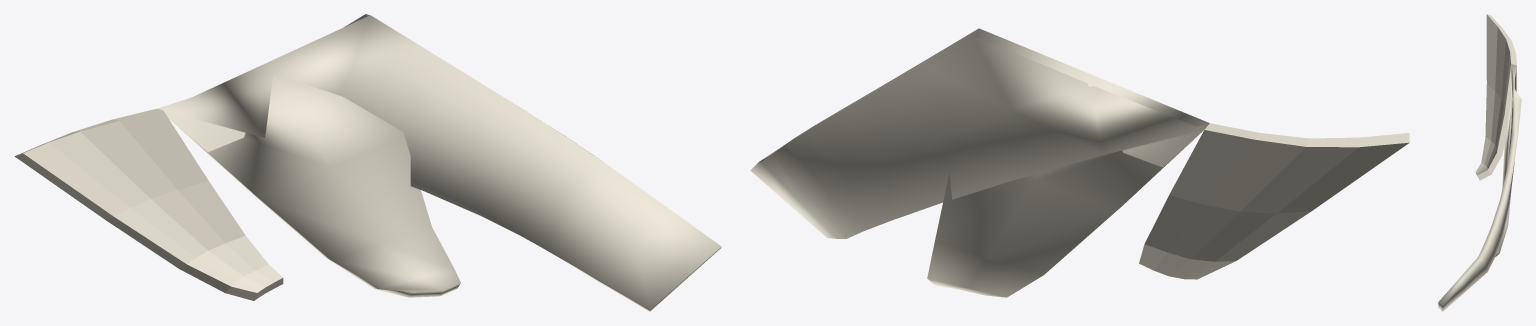
3 renders of one model, left to right at view 1: azimuth 30°, elevation 25°; view 2: azimuth 150°, elevation 25°; view 3: azimuth 270°, elevation 25°, orthographic. The views are drawn at different scales.
Parts seen in each view (by area): view 1: ZA_ab8c832925a2ec59; view 2: ZA_ab8c832925a2ec59; view 3: ZA_ab8c832925a2ec59.
Boxes of the visible parts, left/top/right/bottom form: ZA_ab8c832925a2ec59: left=14, top=14, right=721, bottom=311; ZA_ab8c832925a2ec59: left=750, top=28, right=1409, bottom=297; ZA_ab8c832925a2ec59: left=1438, top=14, right=1521, bottom=311.
Size of the model in its own units: 0.0337 by 0.0145 by 0.0069.
